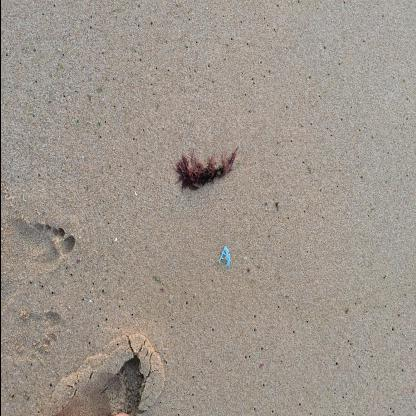plastik: (219, 247, 231, 269)
